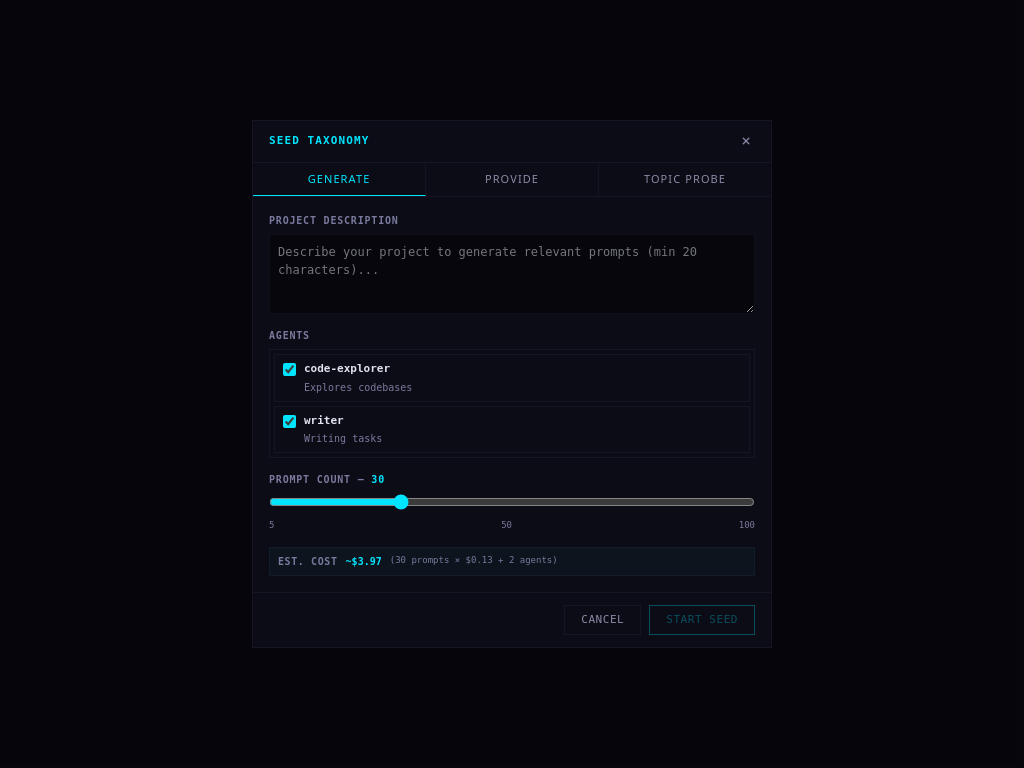
SeedModal › filters seed_batch_progress events by run_id when modal is bound to a specific run
Expected: the text "code-explorer" is shown, [304,362,390,375]
Type "Refactor taxonomy substrate to RunRow contract" into the text box labelled "PROJECT DESCRIPTION" at (512, 274), box [269,234,755,314]
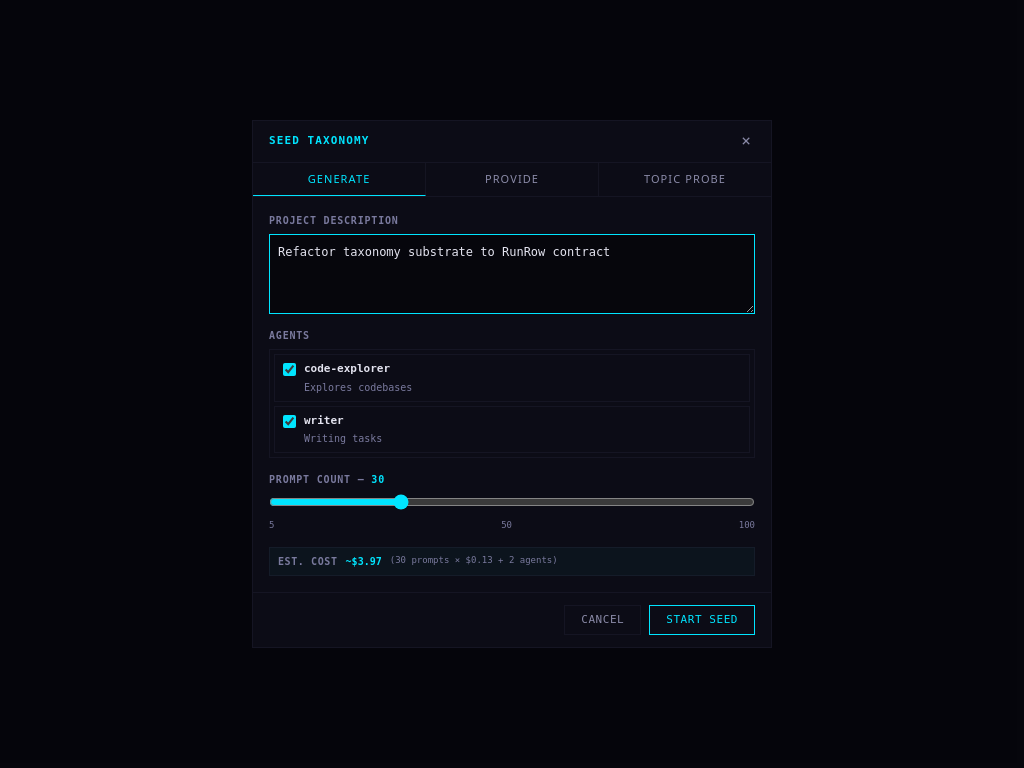
Click the button "Start Seed" at (702, 620), box [649,604,755,635]
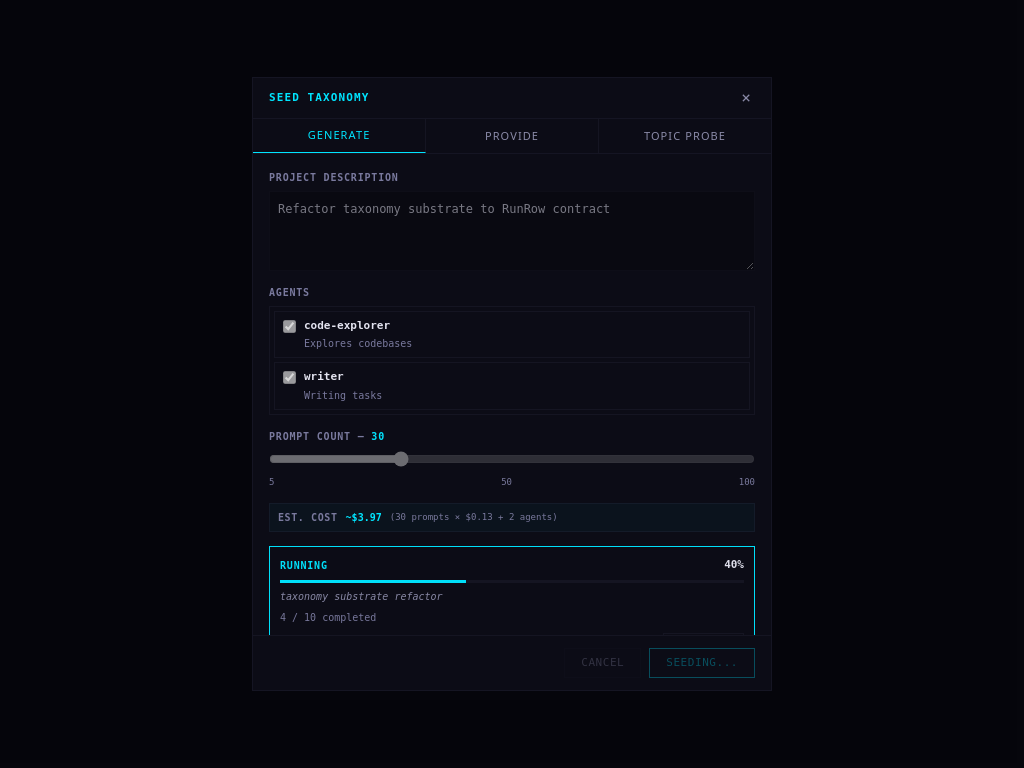
Result: the text "RUNNING" is shown at [280,558,328,573]
Result: the text "4 / 10 completed" is shown at [280,612,376,623]
Result: the text "taxonomy substrate refactor" is shown at [280,591,443,602]
